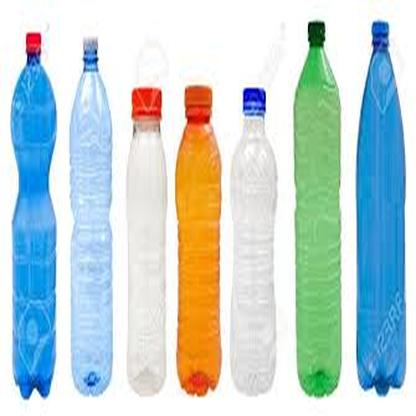plastic bottle: (355, 19, 408, 394), (292, 20, 344, 397), (10, 32, 57, 399), (71, 34, 115, 397), (175, 84, 222, 396), (231, 87, 277, 396), (126, 84, 167, 396)
